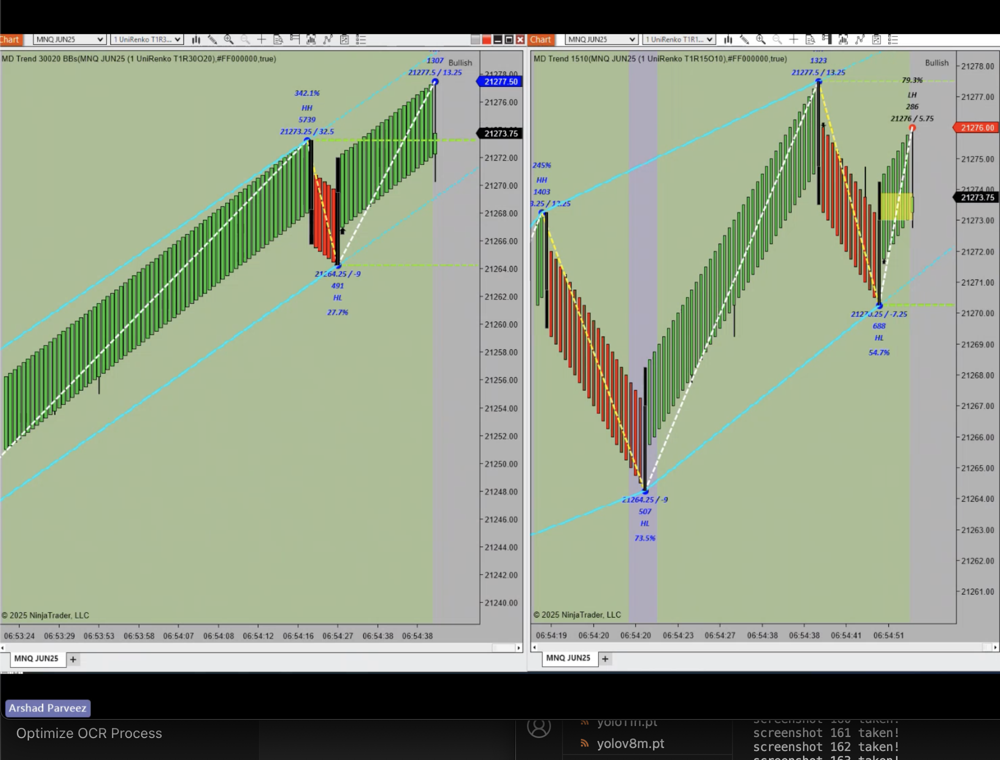HH: (293, 99, 324, 117), (530, 172, 557, 187)
HL: (633, 512, 656, 532), (869, 326, 890, 346), (328, 287, 347, 304)
LH: (900, 85, 924, 104)
